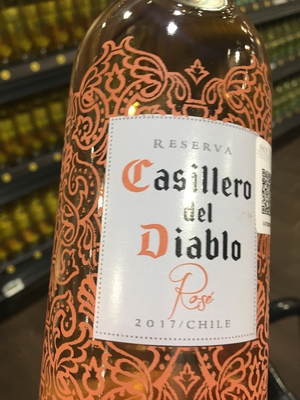casillero del diablo rose: (41, 1, 286, 400)
